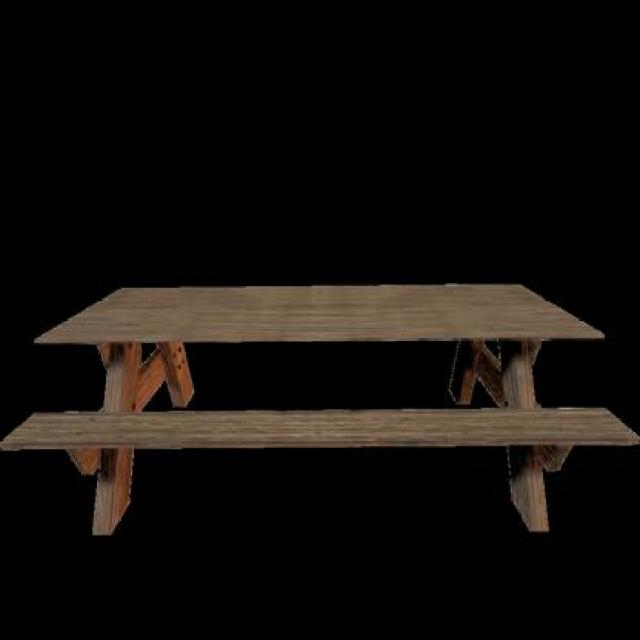table: (4, 281, 638, 568)
